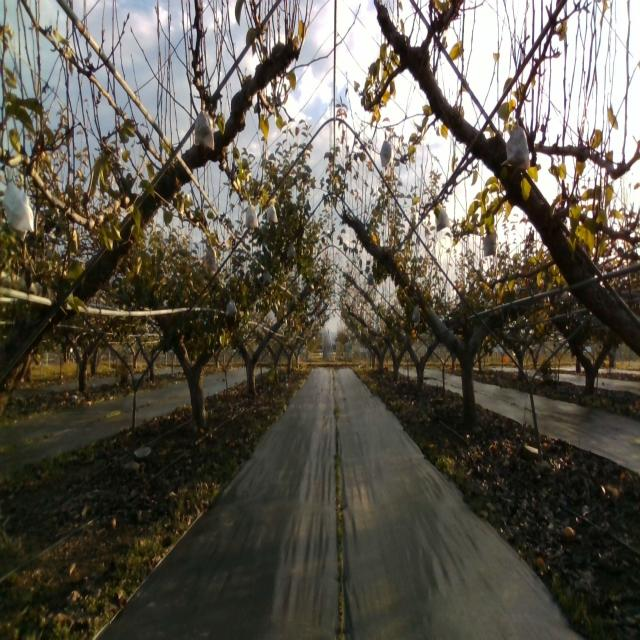pearbags: (2, 167, 34, 234), (500, 118, 530, 170), (194, 100, 215, 151), (204, 239, 218, 274), (435, 202, 450, 232), (380, 132, 391, 168), (246, 200, 259, 230), (483, 231, 497, 257), (266, 200, 279, 225), (225, 296, 238, 316)
